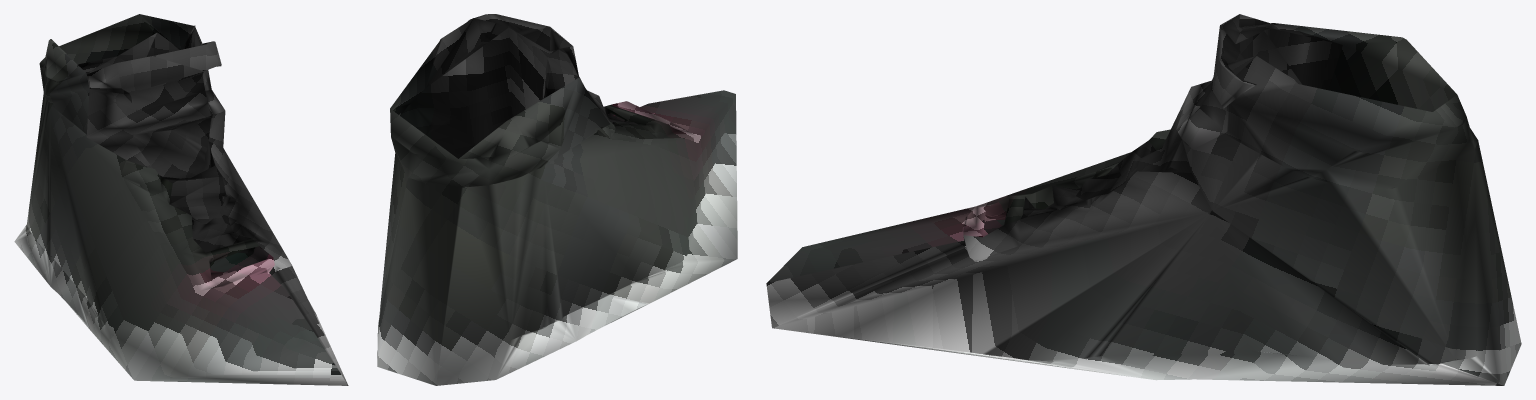
Rendered from Reebok_FS_HI_MINI-low.glb.
3 renders of one model, left to right at view 1: azimuth 30°, elevation 25°; view 2: azimuth 150°, elevation 25°; view 3: azimuth 270°, elevation 25°, orthographic. The views are drawn at different scales.
Parts seen in each view (by area): view 1: Reebok_FS_HI_MINI; view 2: Reebok_FS_HI_MINI; view 3: Reebok_FS_HI_MINI.
Boxes of the visible parts, <box> form: Reebok_FS_HI_MINI: <box>14,14,348,385</box>; Reebok_FS_HI_MINI: <box>377,14,737,385</box>; Reebok_FS_HI_MINI: <box>766,14,1521,385</box>.
Size of the model in its own units: 0.0942 by 0.1245 by 0.2541.
Materials: 1 (1 with a texture image).
